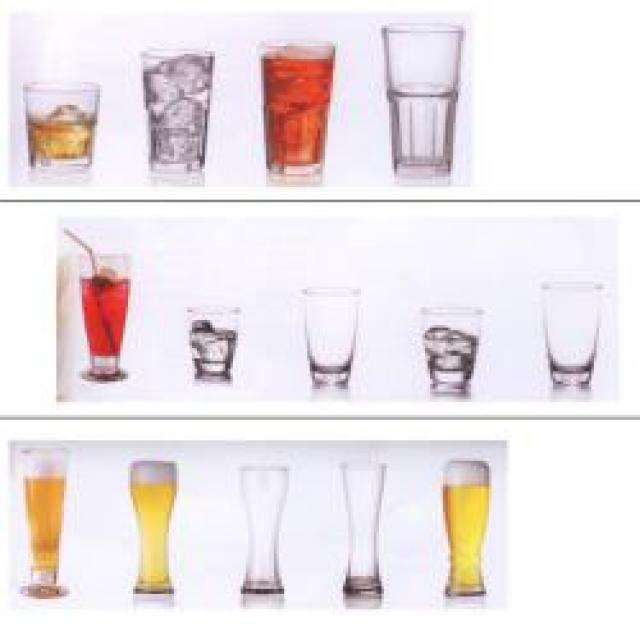non-organic waste: (371, 9, 466, 188), (251, 33, 340, 182)
